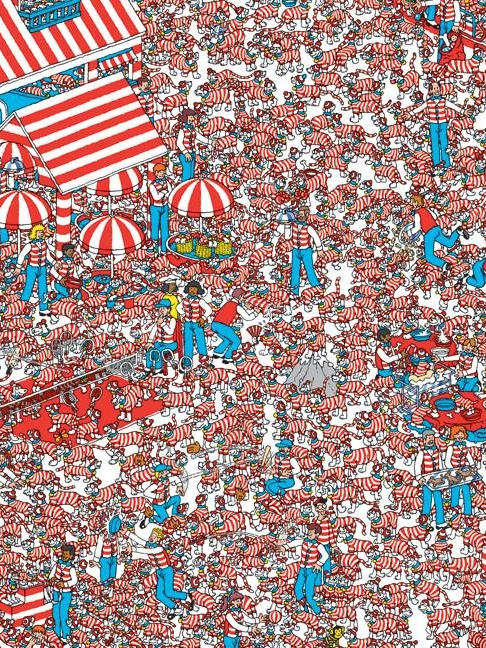waldo: (310, 495, 328, 518)
